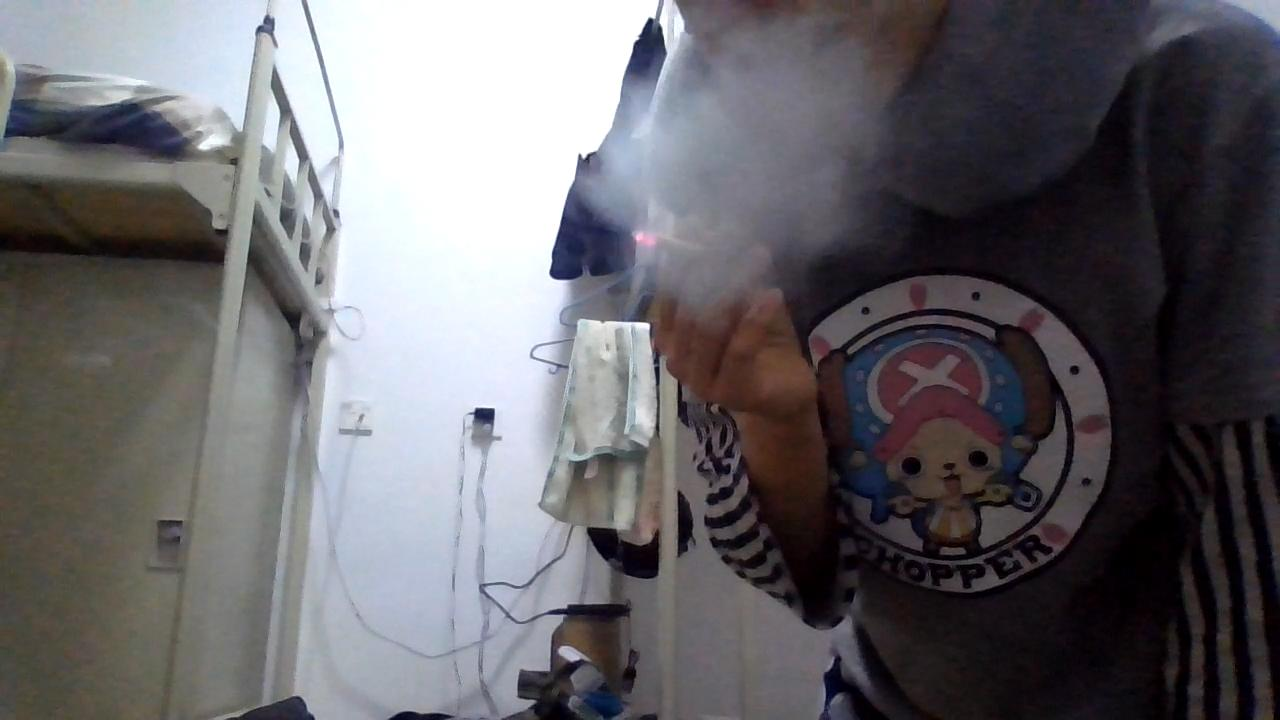smoke: (570, 8, 885, 321)
